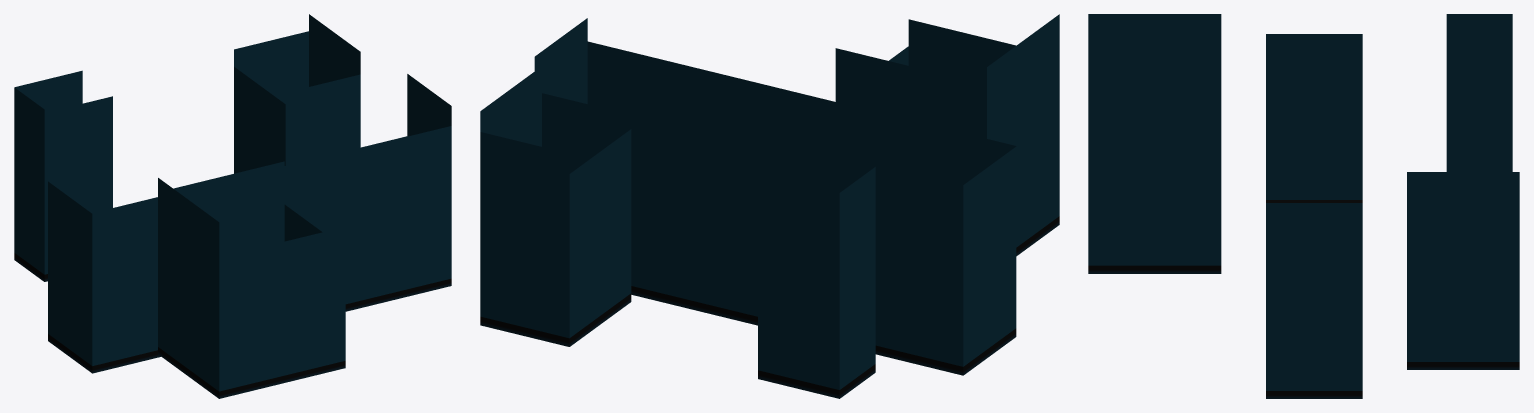
Rendered from ceiling.glb.
3 views of the same model, side by side, from view 1: azimuth 30°, elevation 25°; view 2: azimuth 150°, elevation 25°; view 3: azimuth 270°, elevation 25° (orthographic). The views are drawn at different scales.
Parts seen in each view (by area): view 1: ceiling_skirt, tiles; view 2: ceiling_skirt, tiles; view 3: ceiling_skirt, tiles.
Part boxes in pixels (bbox=[...]): ceiling_skirt: bbox=[14, 14, 451, 391]; tiles: bbox=[14, 253, 451, 398]; ceiling_skirt: bbox=[480, 14, 1059, 389]; tiles: bbox=[480, 216, 1059, 398]; ceiling_skirt: bbox=[1088, 14, 1519, 390]; tiles: bbox=[1088, 200, 1519, 398].
Bounding box in the file's own units: 1.53 × 0.8115 × 1.46.
